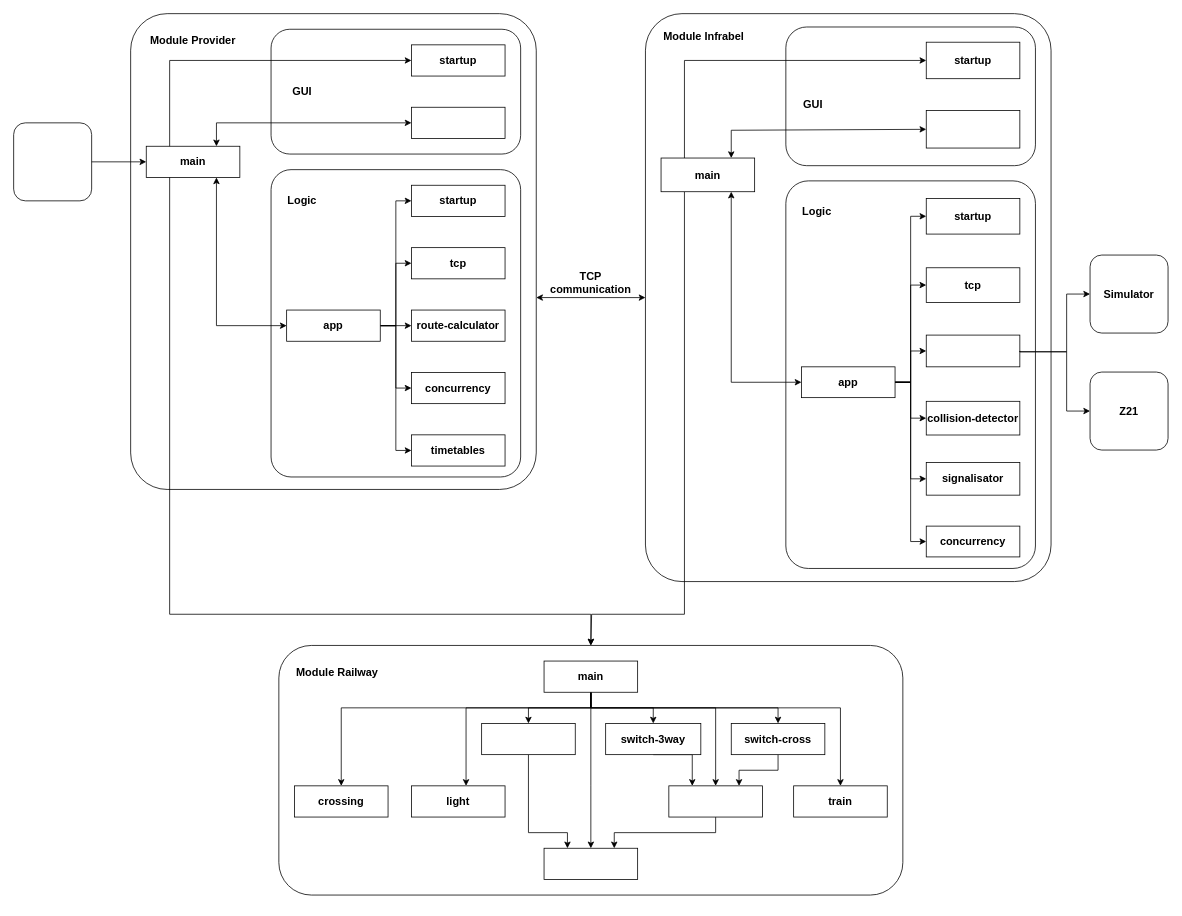
Image size: 1182x916. Some labels were removed from this diagram. The centre of each missing label's shape, as x and y in pixels:
"admin-debug" goes at point 972,129.
"c&c" goes at point 458,122.
"detection-block" goes at point 528,739.
"NMBS" goes at point 52,161.
"segment" goes at point 590,863.
"switch" goes at point 715,801.
"udp" goes at point 972,350.
